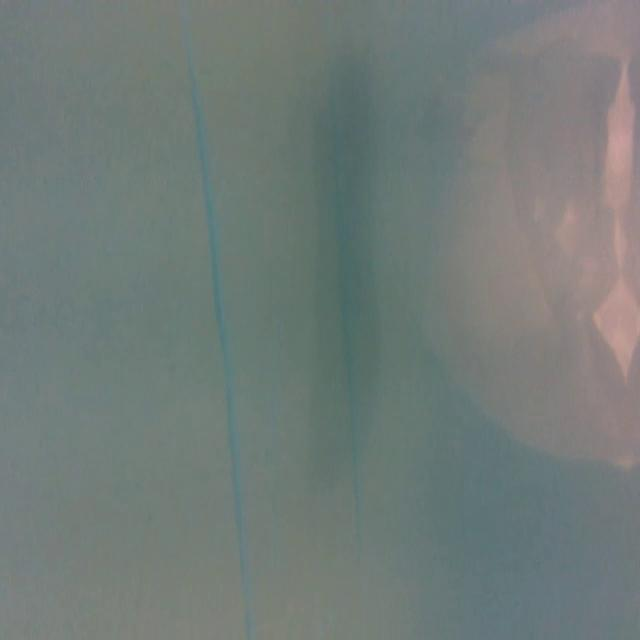plastic bags: (411, 8, 640, 472)
